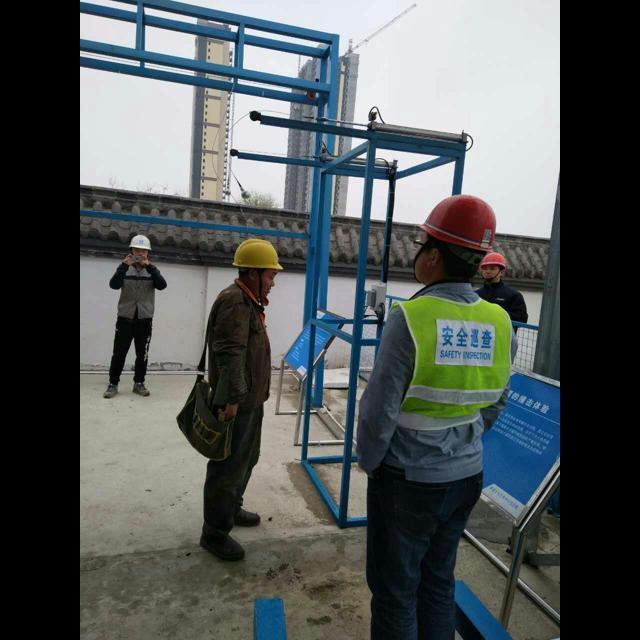helmet: (412, 185, 502, 258), (224, 226, 288, 278), (477, 243, 512, 276), (126, 226, 155, 260)
safety_vest: (360, 274, 520, 502), (200, 274, 288, 426), (464, 273, 535, 381), (111, 256, 166, 330)
